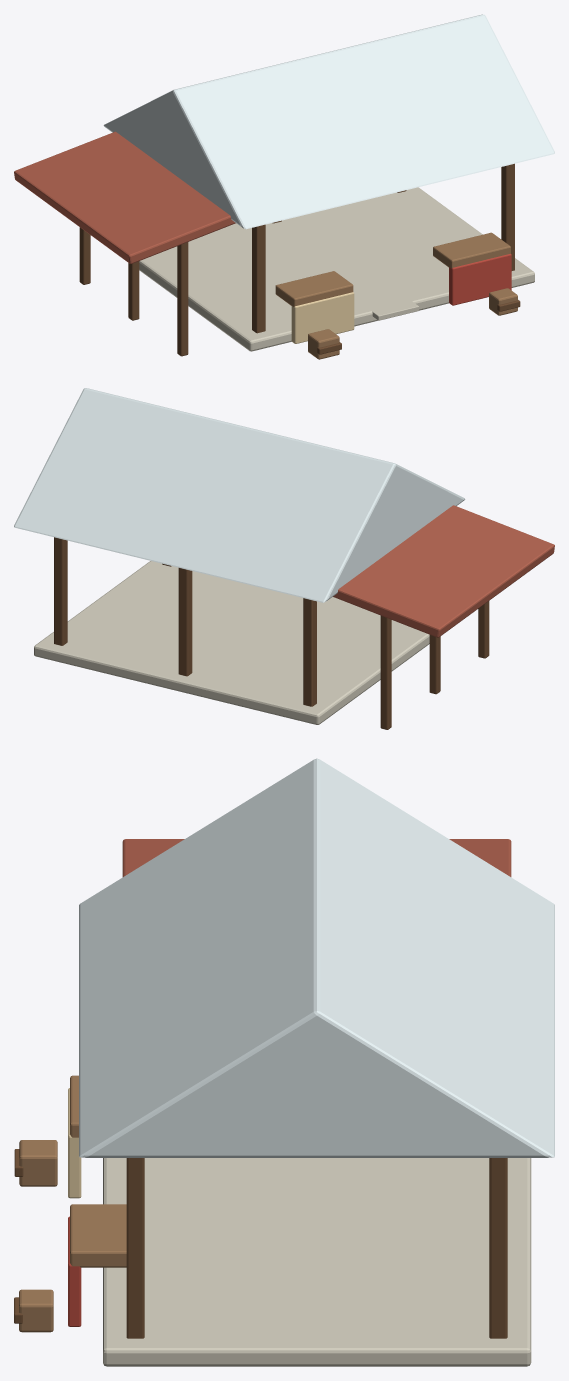
Rendered from snowy-market-1.glb.
3 views of the same model, one above another, from view 1: azimuth 30°, elevation 25°; view 2: azimuth 150°, elevation 25°; view 3: azimuth 270°, elevation 25° (orthographic). The views are drawn at different scales.
Parts seen in each view (by area): view 1: Snow, Cut limestone, Clay tiles, Dark beams, Aged oak, Market red cloth, Market cream cloth; view 2: Snow, Cut limestone, Clay tiles, Dark beams; view 3: Snow, Cut limestone, Aged oak, Dark beams, Clay tiles, Market red cloth, Market cream cloth.
Boxes of the visible parts, x1,y1,x2,y2 form: Snow: [103, 14, 554, 229]; Cut limestone: [139, 187, 534, 351]; Clay tiles: [14, 131, 235, 263]; Dark beams: [79, 163, 520, 356]; Aged oak: [275, 232, 517, 359]; Market red cloth: [449, 253, 511, 305]; Market cream cloth: [291, 292, 354, 343]; Snow: [14, 388, 465, 602]; Cut limestone: [34, 561, 429, 724]; Clay tiles: [333, 505, 554, 637]; Dark beams: [54, 537, 489, 729]; Snow: [79, 758, 554, 1157]; Cut limestone: [103, 1158, 531, 1366]; Aged oak: [19, 1075, 126, 1332]; Dark beams: [14, 1149, 507, 1338]; Clay tiles: [122, 839, 511, 876]; Market red cloth: [68, 1216, 81, 1326]; Market cream cloth: [68, 1088, 81, 1198].
Size of the model in its own units: 7.1 by 3.59 by 4.8.
